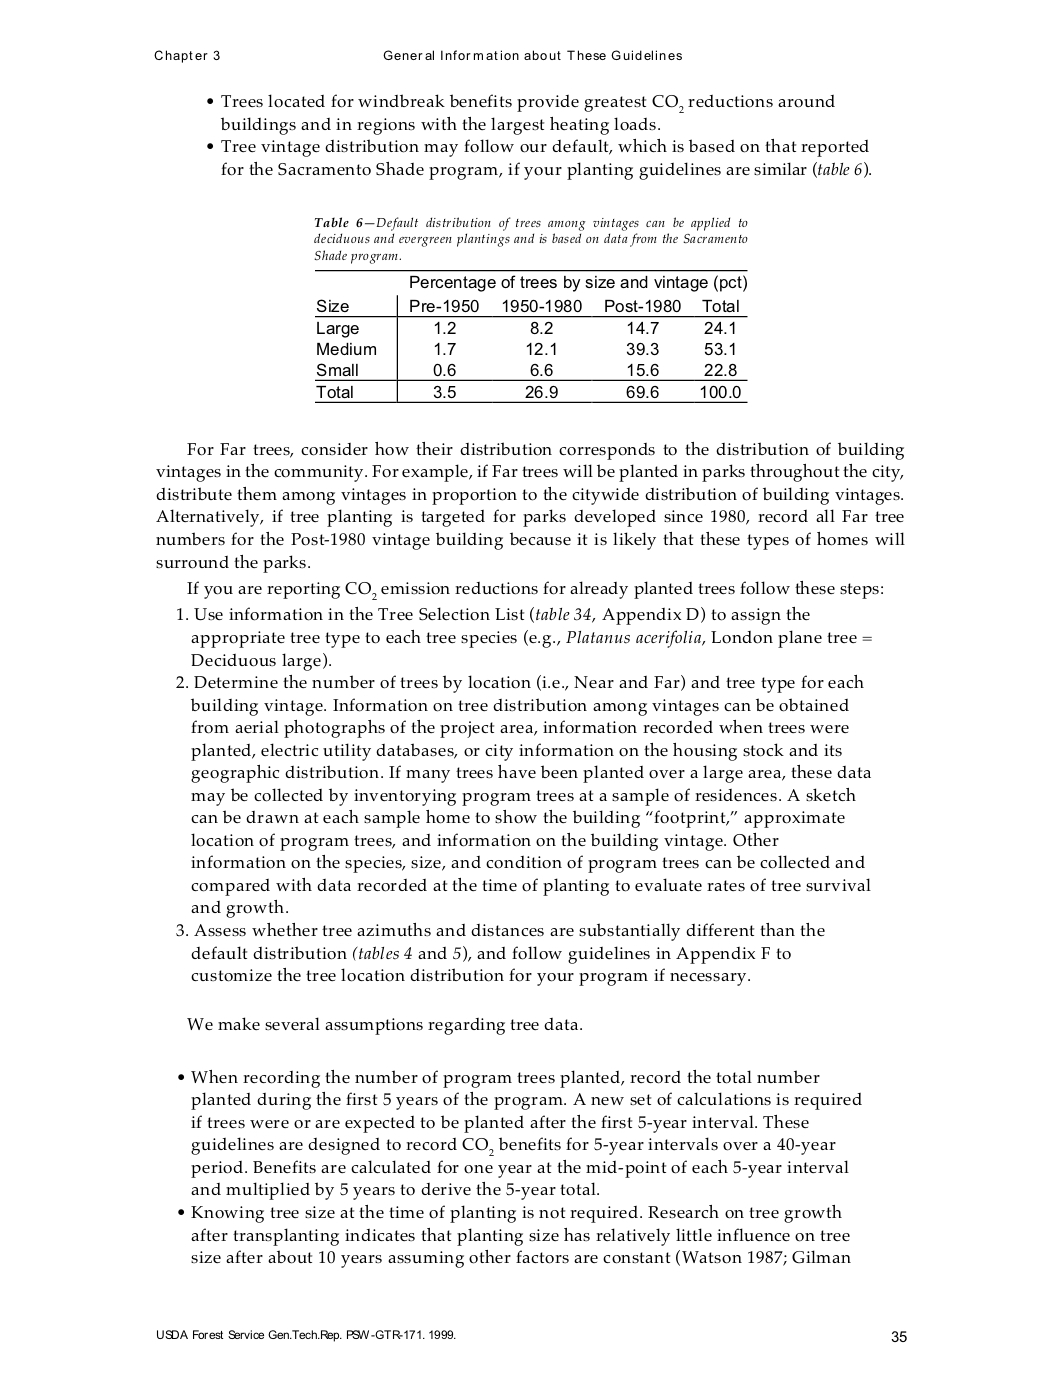Table: (315, 269, 747, 403)
